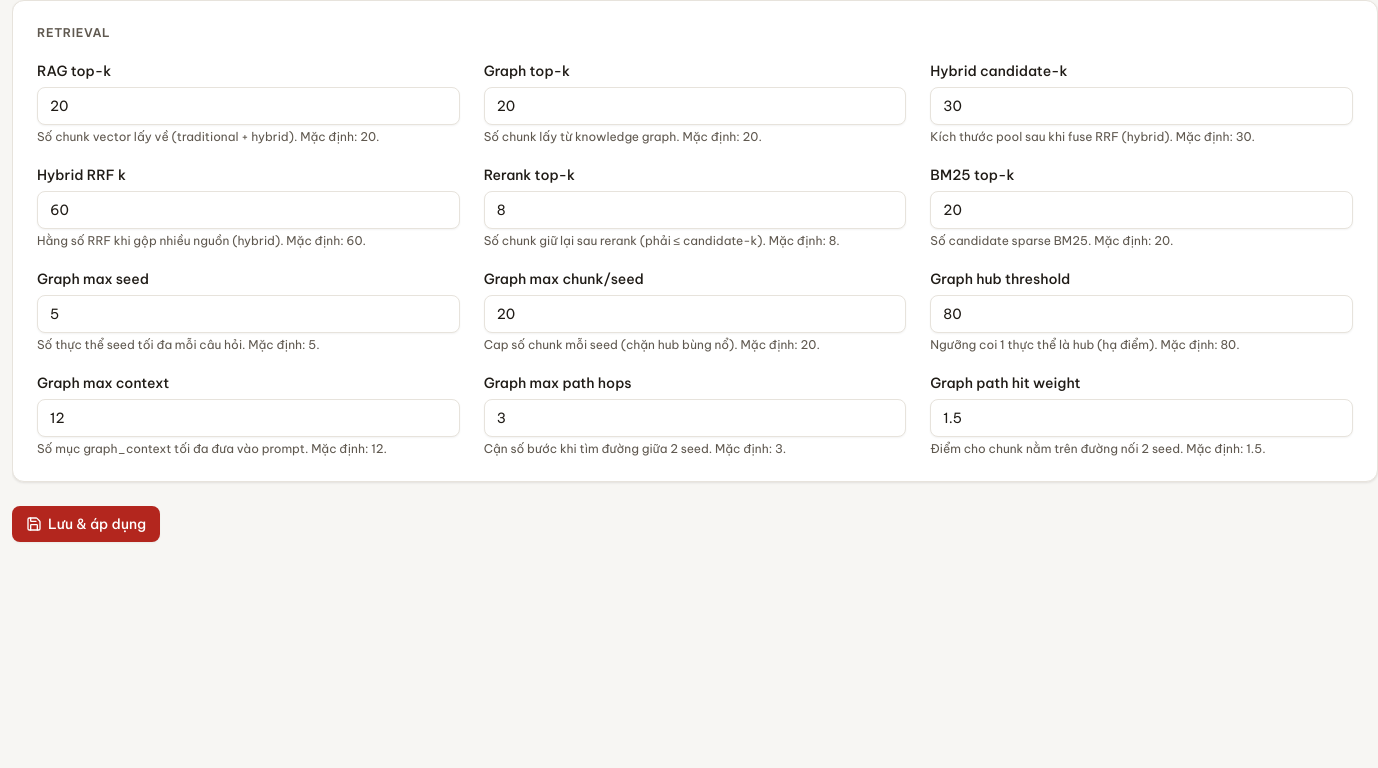
ConfigForm › chặn số âm ở field float và vô hiệu nút lưu
Replace the text in the number field labelled "Graph path hit weight" with "-1" at [1142, 418], box [930,399,1353,437]
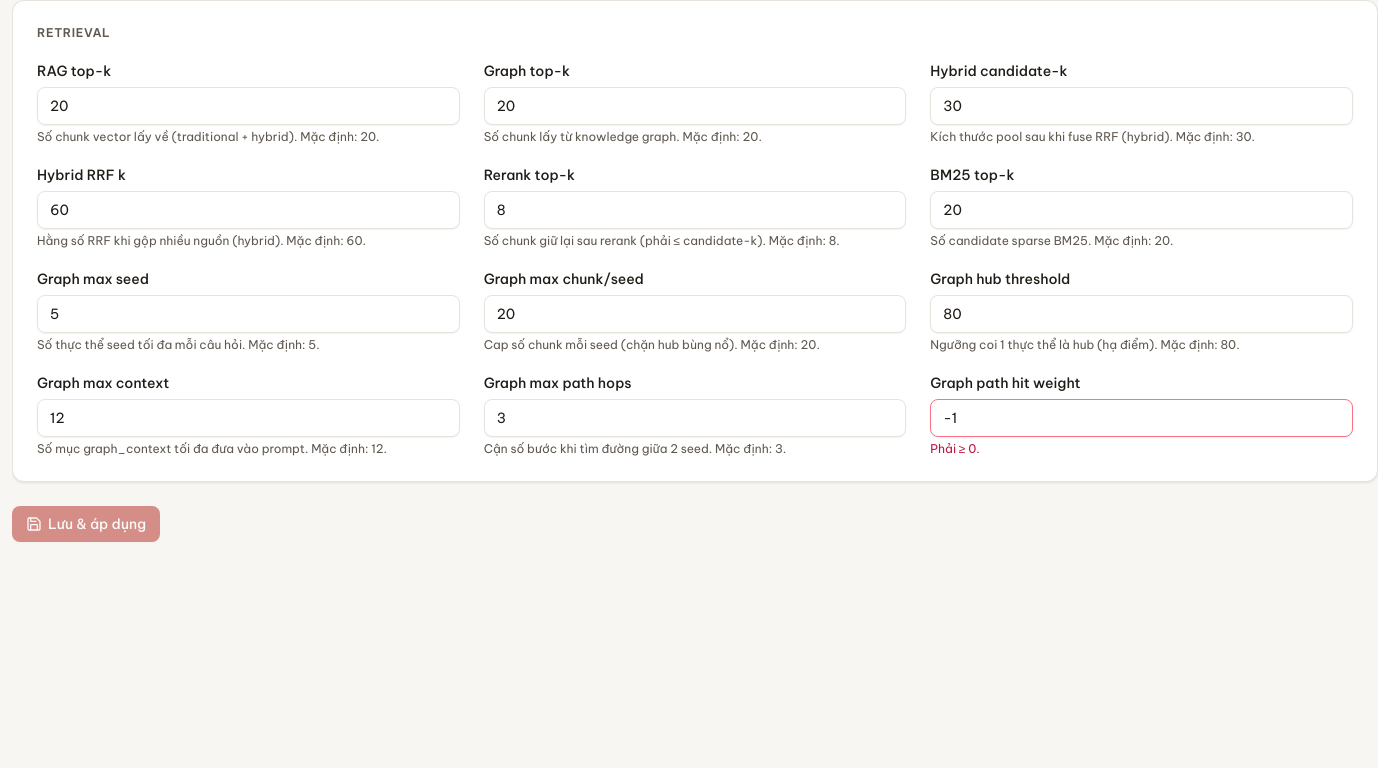
Check: the text "Phải ≥ 0." is shown, box [930,441,980,456]
Check: the button "Lưu & áp dụng" is disabled, box [12,506,160,542]
